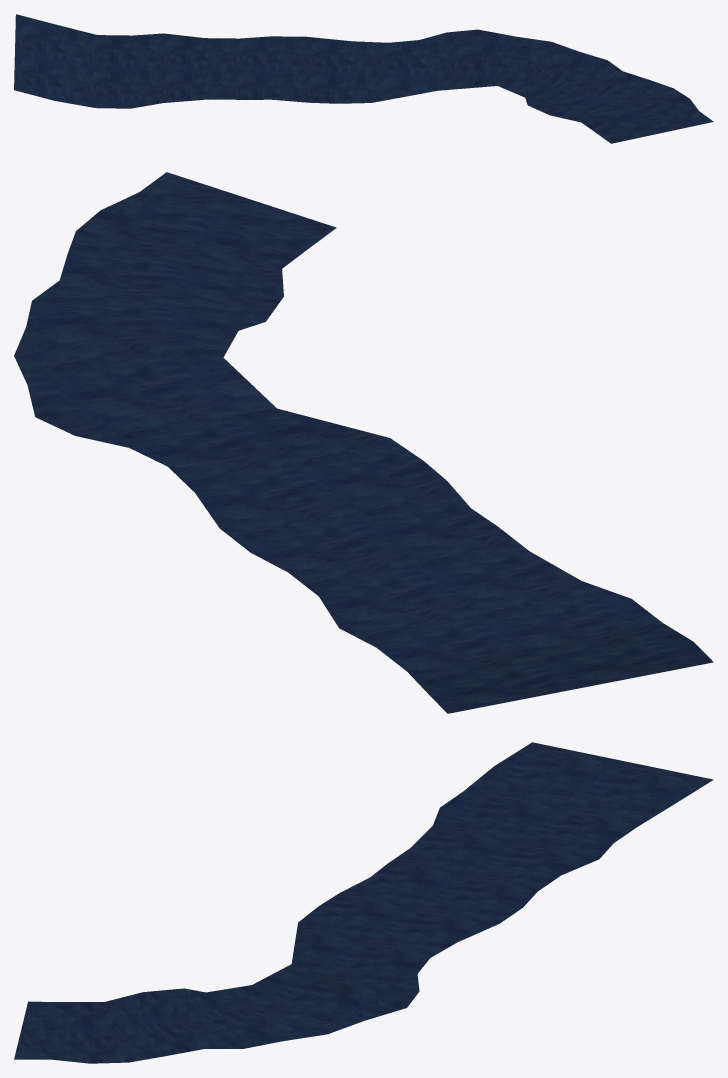
Rendered from water.fbx.
The picture shows the model from 3 angles, top to bottom: view 1: azimuth 30°, elevation 25°; view 2: azimuth 150°, elevation 25°; view 3: azimuth 270°, elevation 25°; orthographic projection. The views are drawn at different scales.
Parts seen in each view (by area): view 1: obj0.170; view 2: obj0.170; view 3: obj0.170.
Part boxes in pixels (box(x1,y1,x2,y2)): obj0.170: box(14, 14, 713, 143); obj0.170: box(14, 172, 713, 713); obj0.170: box(14, 742, 713, 1063).
Bounding box in the file's own units: 48.74 × 1.72 × 45.81.
